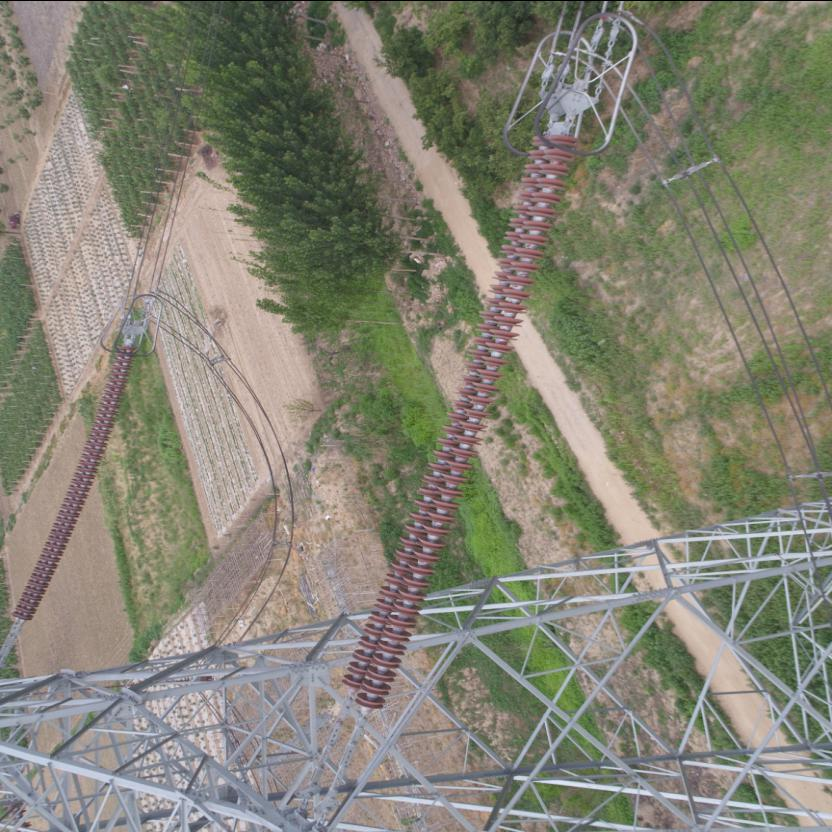insulator: (332, 104, 586, 734), (8, 330, 140, 650)
